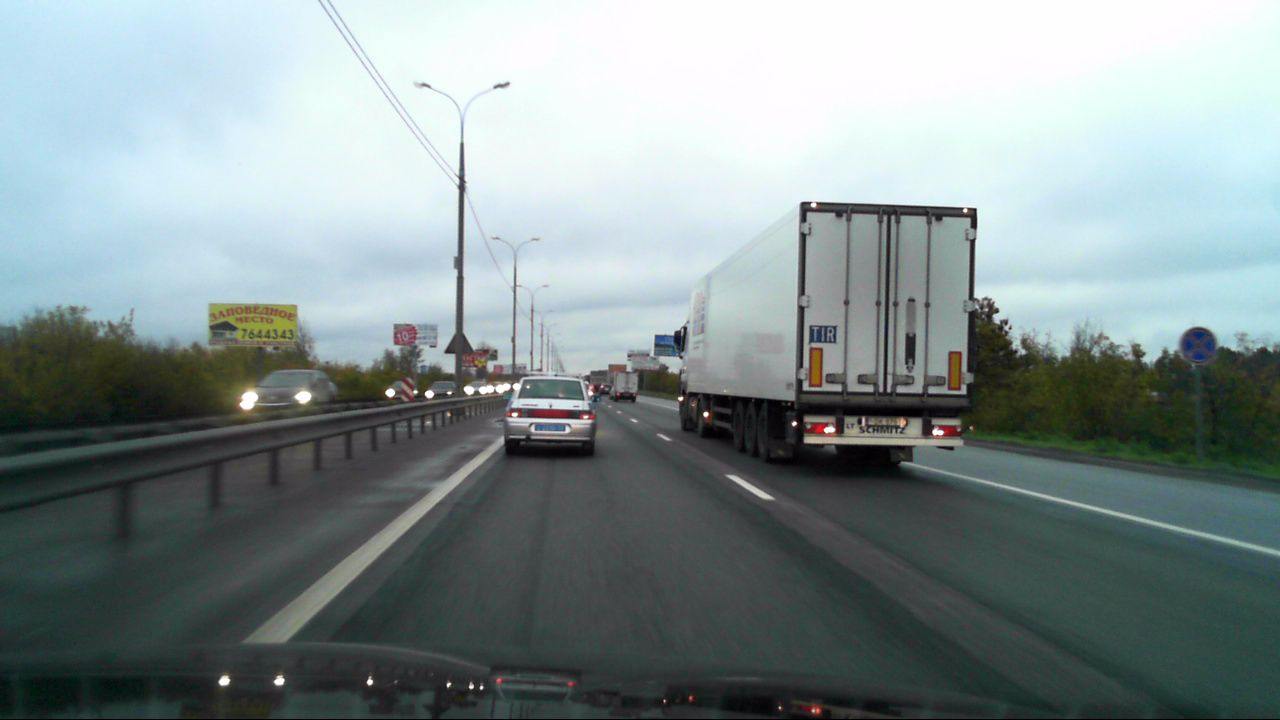No Parking: (1178, 326, 1216, 362)
